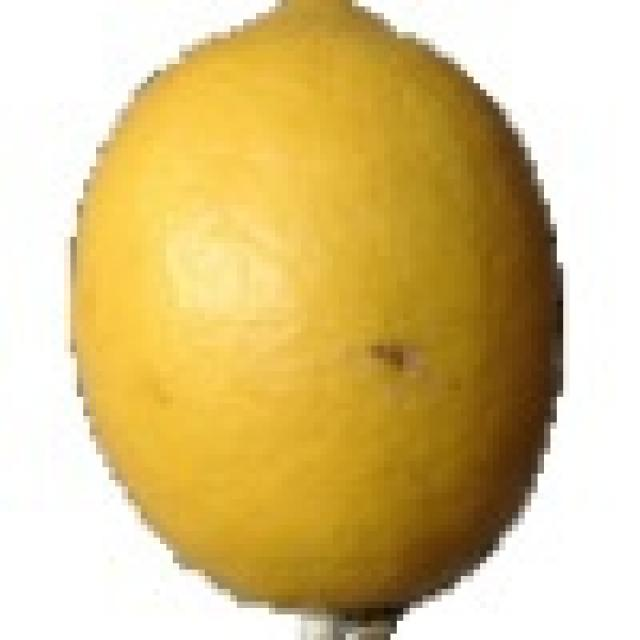lemon: (60, 0, 570, 604)
